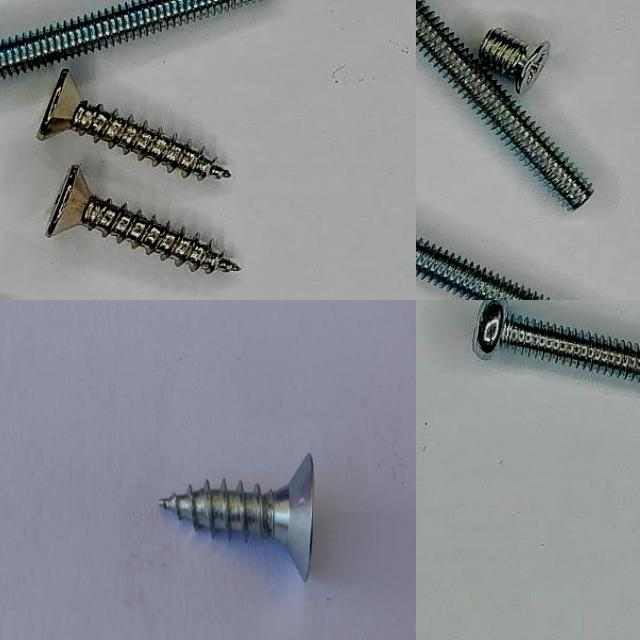Screw: (416, 0, 592, 209), (46, 167, 241, 274), (40, 72, 231, 180), (0, 0, 260, 79), (159, 452, 315, 580), (473, 300, 640, 383), (416, 236, 553, 300), (480, 28, 550, 93)
